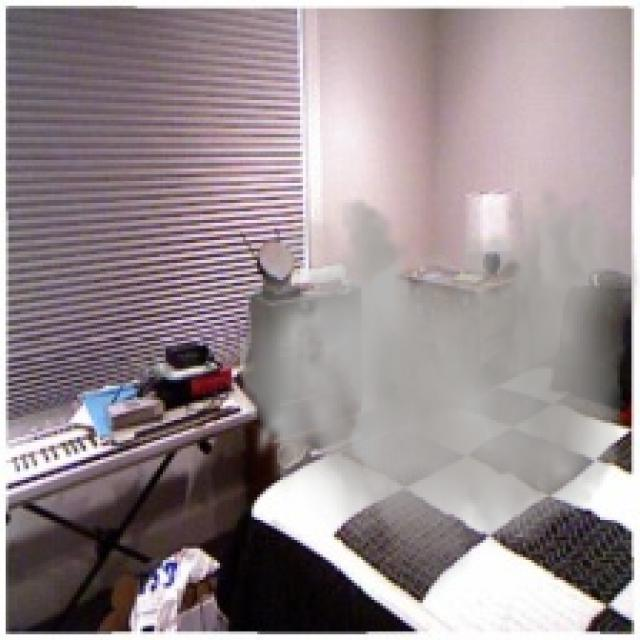smoke: (240, 186, 637, 603)
